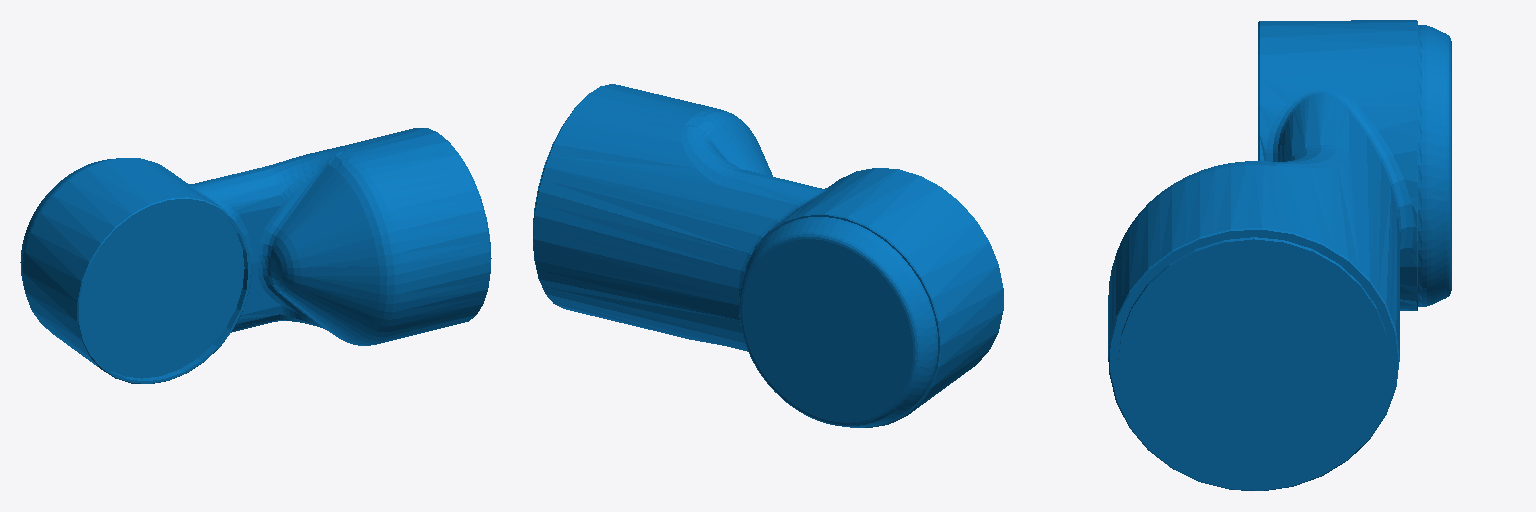
The robot description file, URDF, robot "elbow_flex_link":
<robot  name="elbow_flex_link">
  <link name="elbow_flex_link">
    <inertial>
      <origin rpy="0 0 0" xyz="0.1279 0.0073 0.0000" />
      <mass value="2.1299" />
      <inertia ixx="0.0024" ixy="-0.0016" ixz="0.0" iyy="0.0082" iyz="-0.0" izz="0.0084" />
    </inertial>
    <visual>
      <origin rpy="0 0 0" xyz="0 0 0" />
      <geometry>
        <mesh filename="package://fetch_description/meshes/elbow_flex_link.obj" />
      </geometry>
      <material name="">
        <color rgba="0.086 0.506 0.767 1" />
      </material>
    </visual>
    <collision>
      <origin rpy="0 0 0" xyz="0 0 0" />
      <geometry>
        <mesh filename="package://fetch_description/meshes/elbow_flex_link_collision.STL" />
      </geometry>
    </collision>
  </link>
</robot>

--- Facts derived from the render (not from the file) ---
The picture shows the robot from 3 angles, left to right: view 1: azimuth 30°, elevation 25°; view 2: azimuth 150°, elevation 25°; view 3: azimuth 270°, elevation 25°; orthographic projection.
Robot: elbow_flex_link — 1 links, 0 joints (none); root link elbow_flex_link; default pose: all joints at 0.
Links seen in each view (by area): view 1: elbow_flex_link; view 2: elbow_flex_link; view 3: elbow_flex_link.
Link boxes in pixels (box(x1,y1,x2,y2)): elbow_flex_link: box(20, 128, 491, 383); elbow_flex_link: box(533, 84, 1003, 427); elbow_flex_link: box(1108, 20, 1451, 490).
Bounding box of the posed robot: 0.218 × 0.1225 × 0.104 m (x, y, z).
1 mesh visuals loaded from 1 distinct referenced files (1 OBJ).